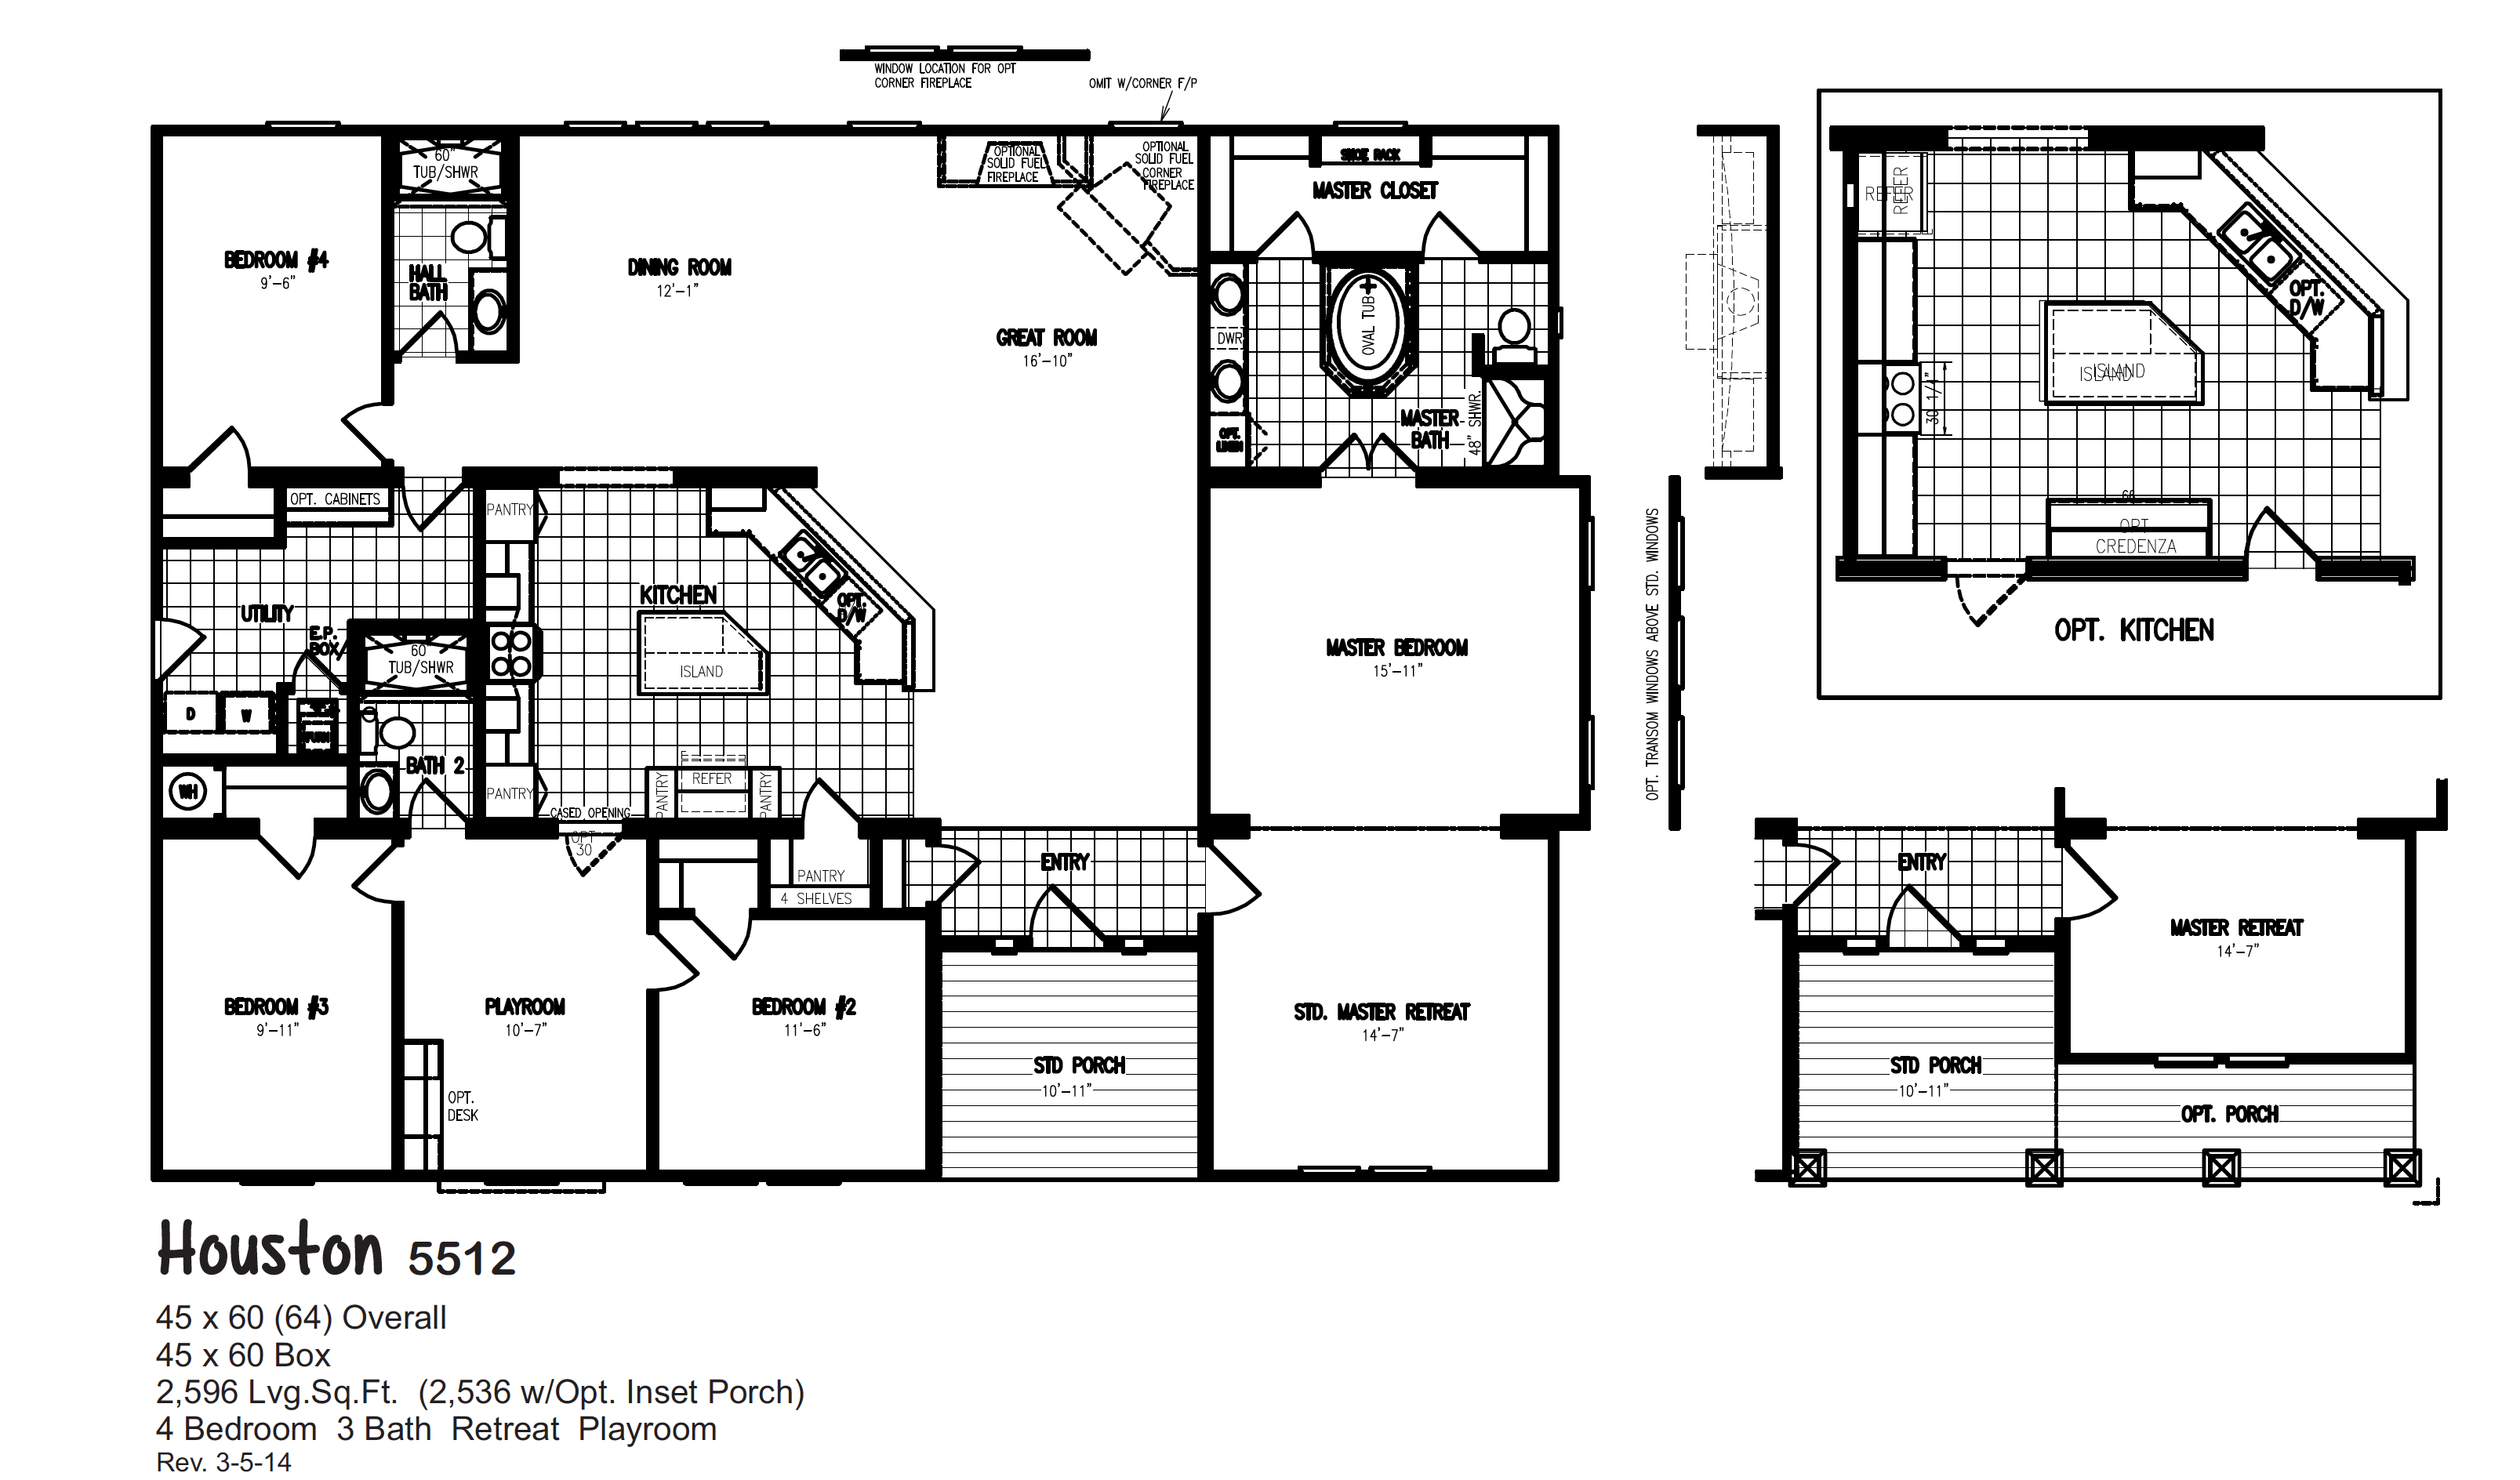door: (1322, 426, 1417, 476), (1953, 576, 2027, 634), (1020, 883, 1105, 930), (2072, 847, 2125, 923), (1214, 849, 1272, 918), (2242, 504, 2314, 557), (1886, 881, 1958, 929), (344, 840, 393, 904), (693, 916, 756, 964), (1801, 840, 1843, 909), (187, 423, 254, 465), (562, 839, 629, 881), (1440, 196, 1507, 238), (1253, 215, 1320, 257), (254, 837, 315, 881), (398, 307, 460, 351), (338, 398, 381, 462), (661, 934, 707, 992), (798, 775, 860, 818), (398, 493, 467, 530), (164, 617, 206, 677), (405, 772, 458, 816), (943, 844, 982, 895)
